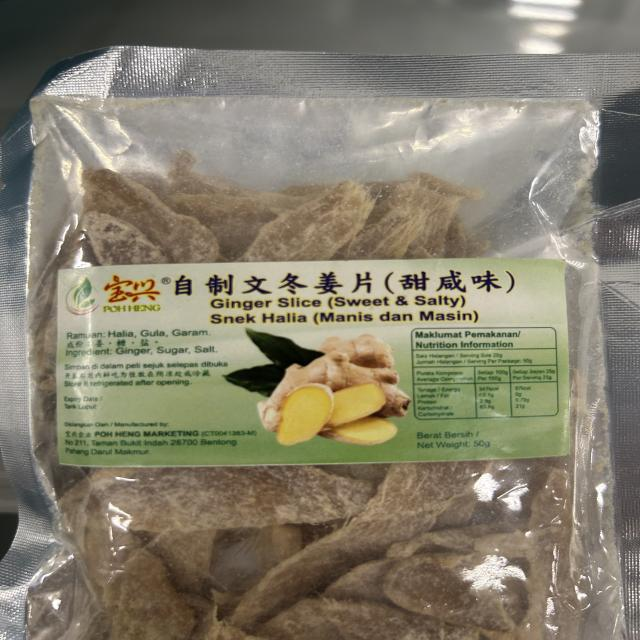object_name: (17, 70, 640, 640)
